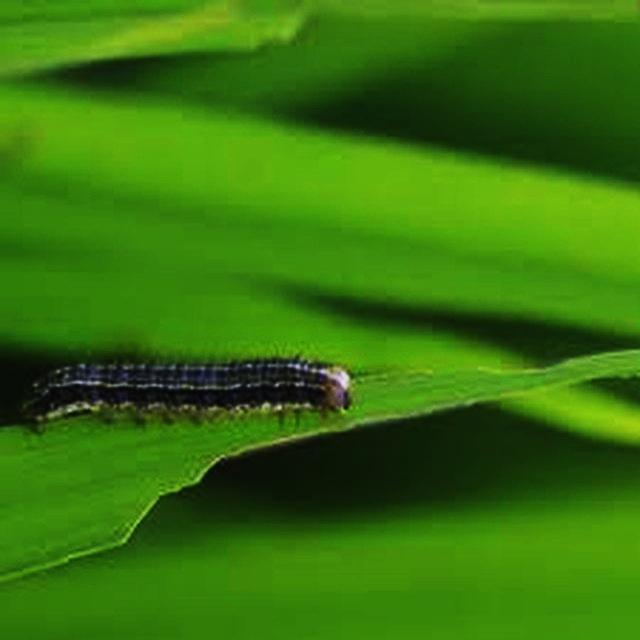gusano_cogollero: (12, 345, 358, 435)
